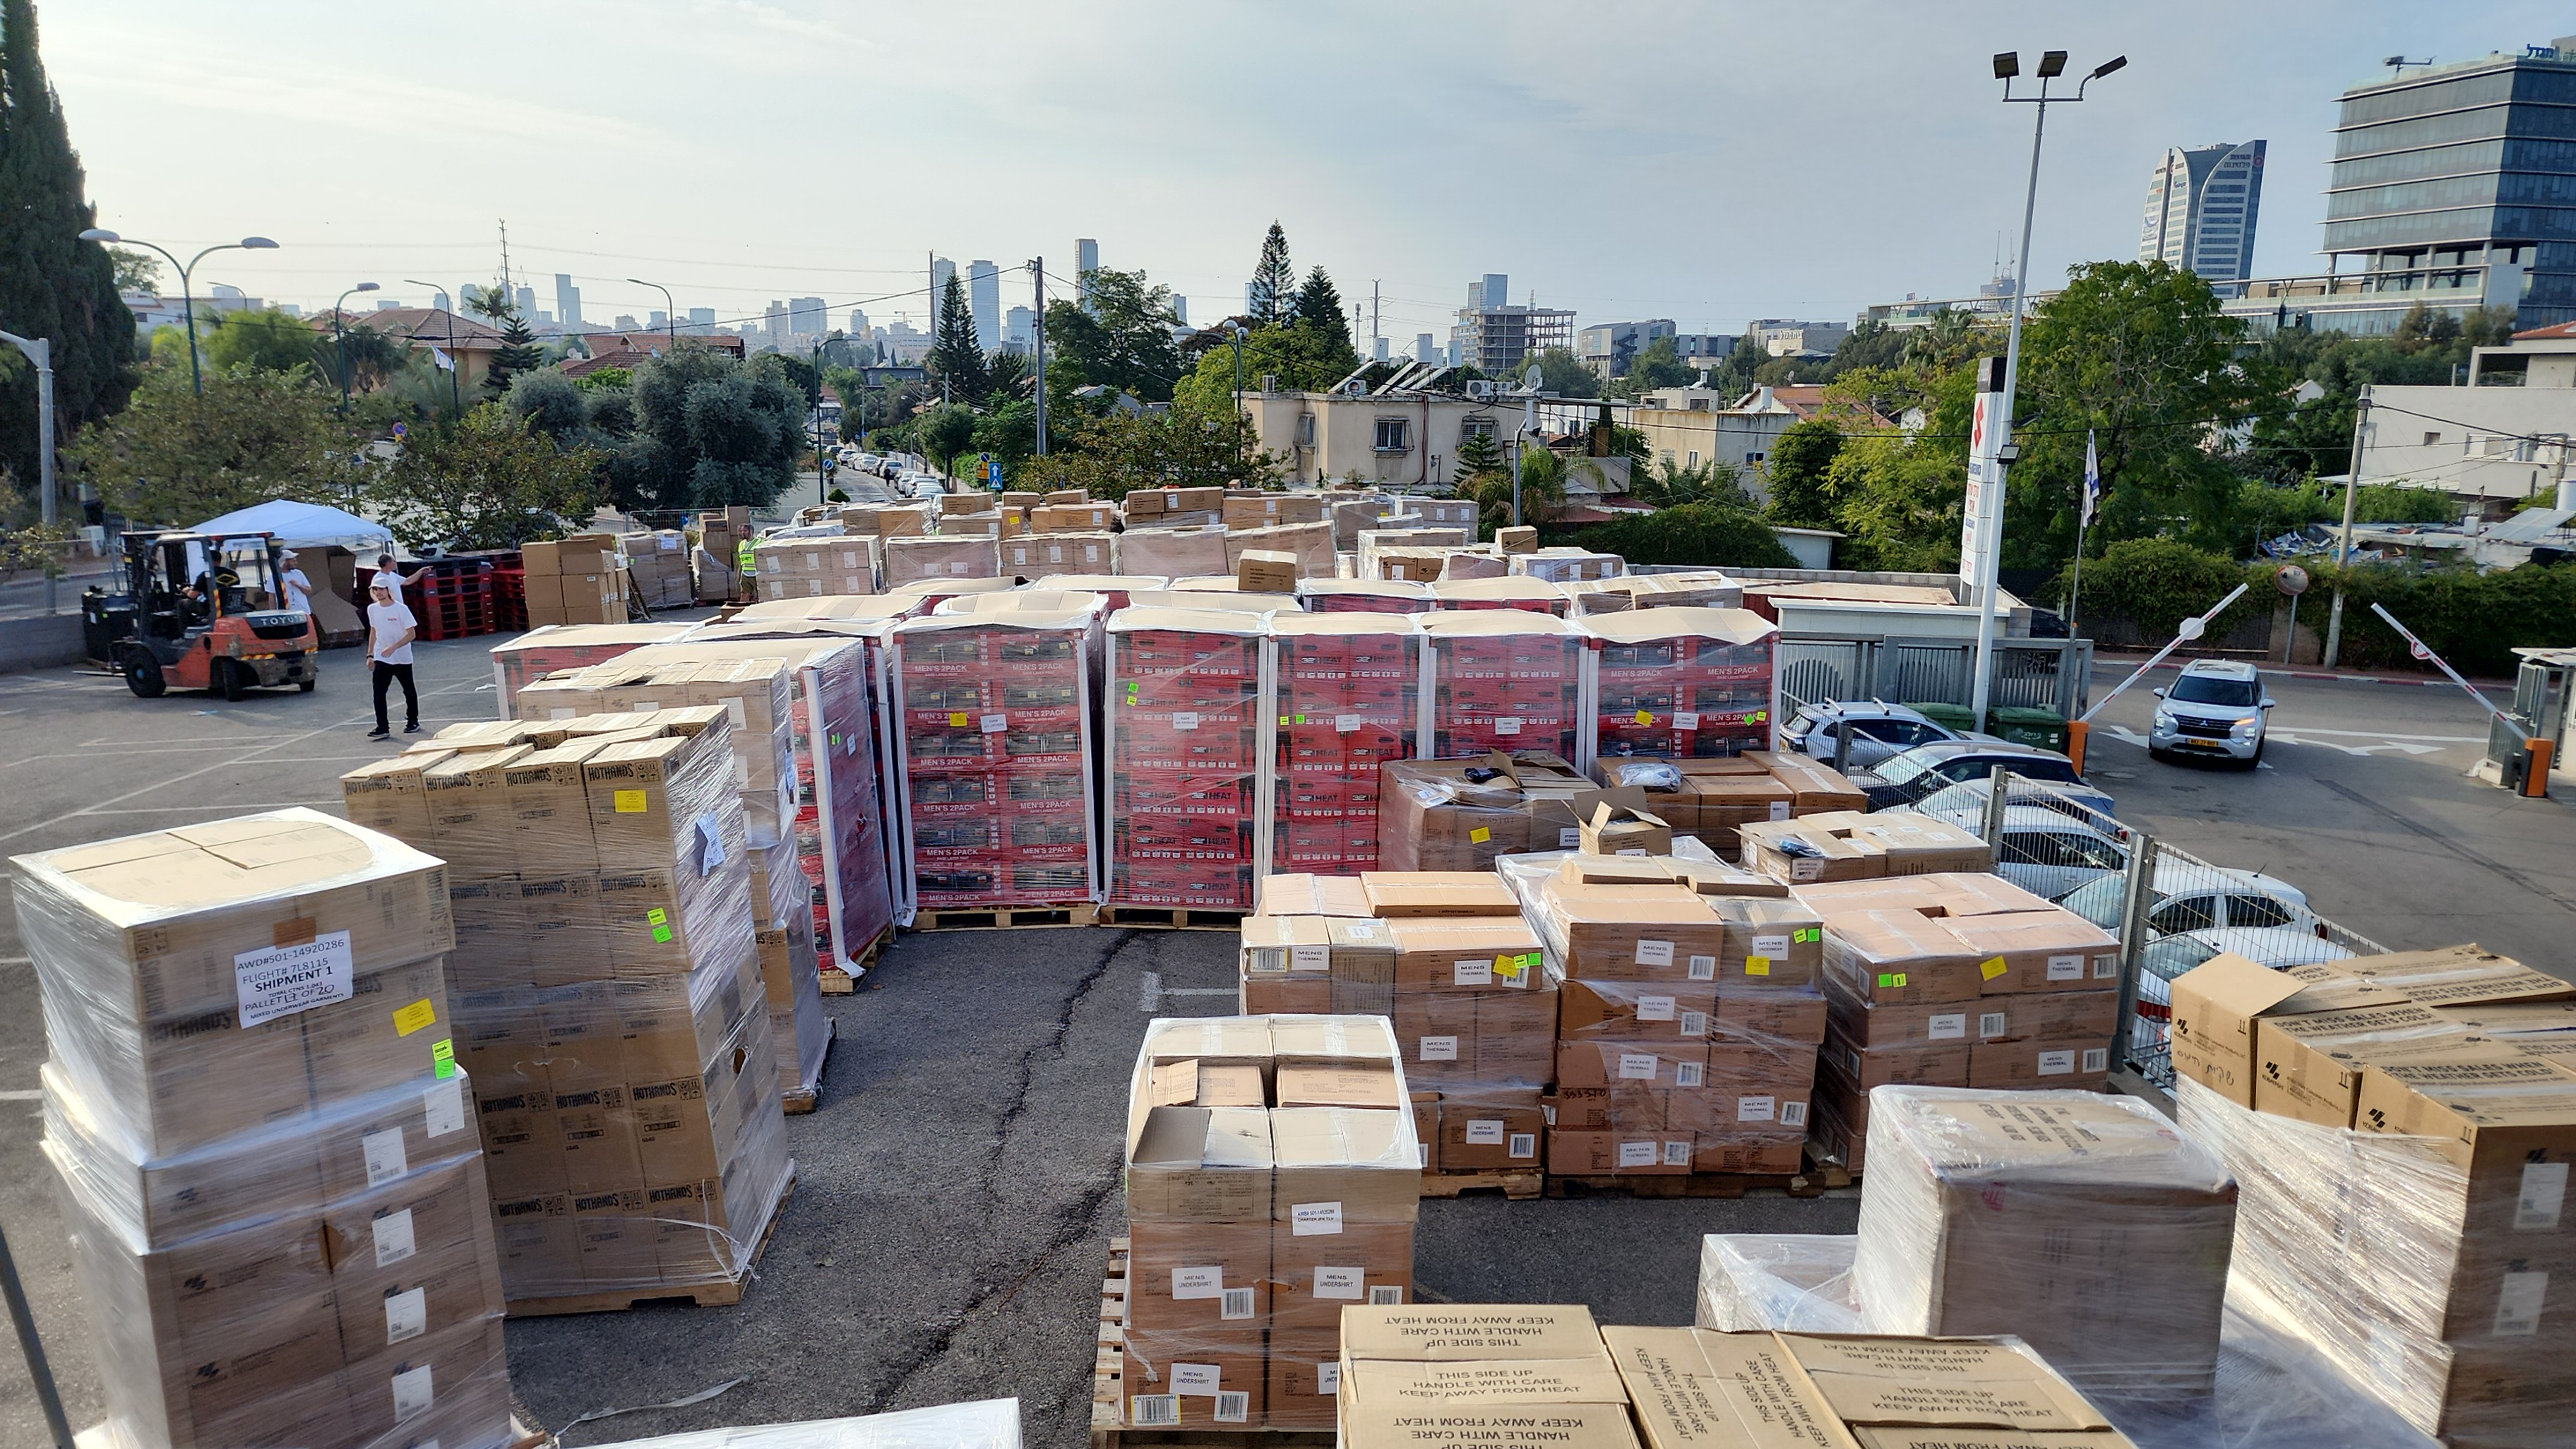box: (1845, 1070, 2236, 1384), (1116, 1000, 1445, 1327), (18, 824, 476, 1005), (1099, 619, 1299, 924), (34, 973, 331, 1164), (39, 1104, 481, 1210), (1566, 902, 1730, 1175), (1828, 874, 2100, 1033), (55, 1171, 336, 1323), (76, 1221, 336, 1361), (1313, 617, 1422, 847), (1348, 1286, 1624, 1373), (591, 738, 685, 863)
